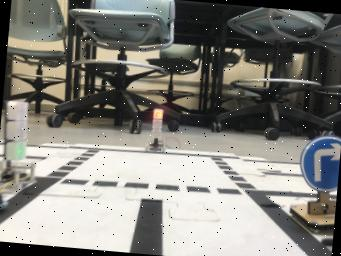right: (288, 134, 341, 230), (288, 134, 341, 230), (288, 134, 341, 230)
street: (0, 143, 331, 256), (0, 143, 331, 256), (0, 143, 331, 256)
traffic_light: (143, 109, 164, 153), (143, 109, 164, 153), (143, 109, 164, 153)
